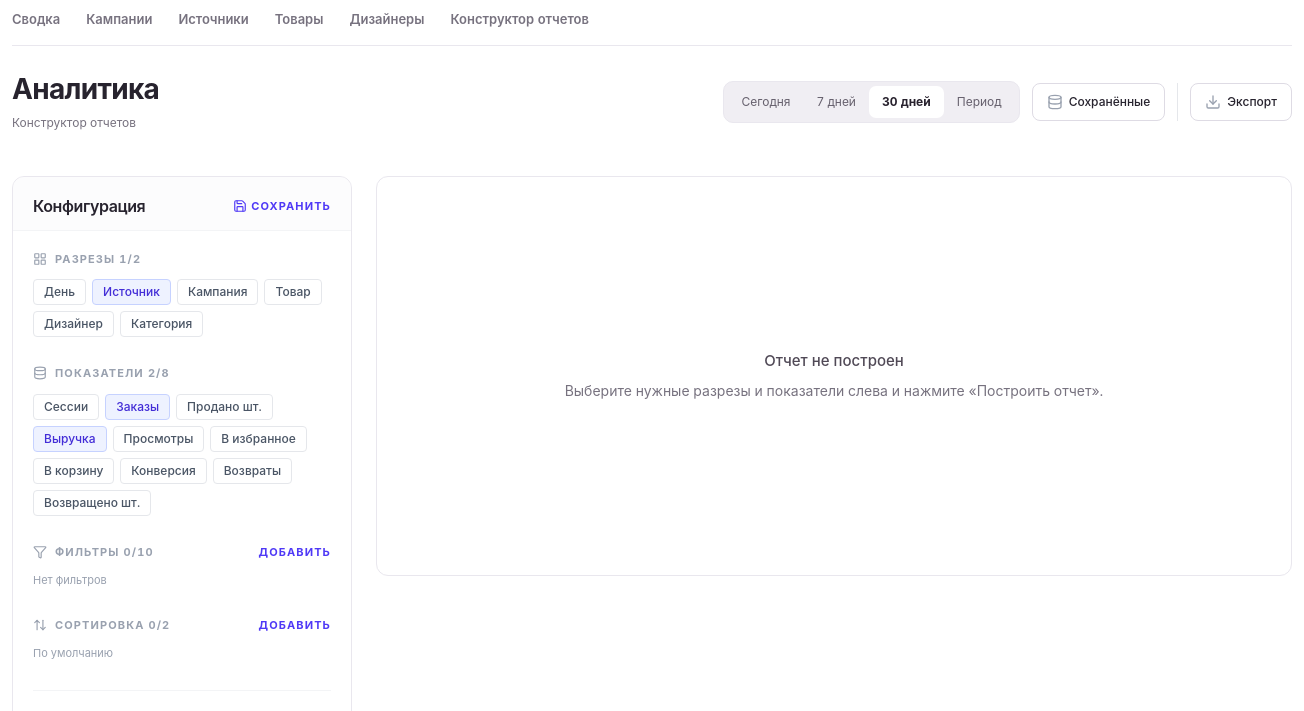
Test case: AdminMarketingQueryBuilder — Core Contract Matrix › Matrix 25-27: renders metric-only, 1-dimension, and 2-dimension responses correctly
# Deselect source to make 0 dimensions
Click the button "Источник": (132, 292) [92,279,171,305]
(page scrolled)
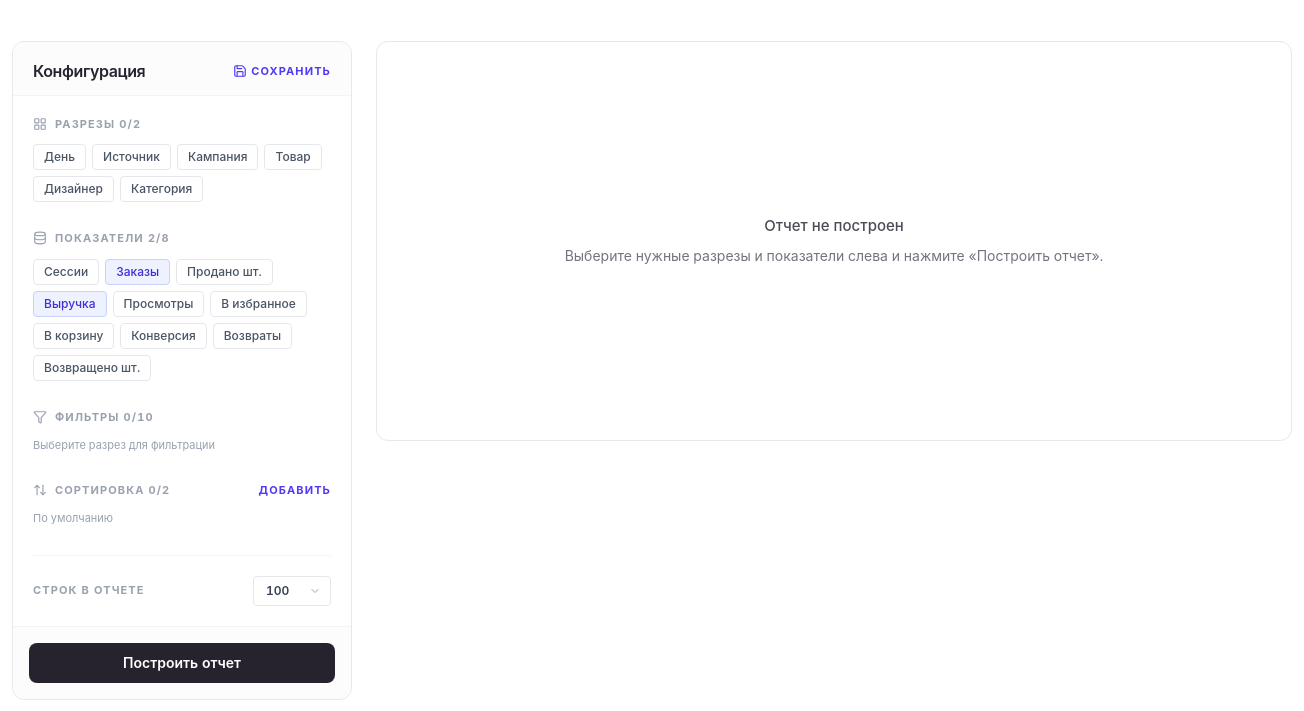
Click the button "Построить отчет": (182, 662) [29,642,335,682]
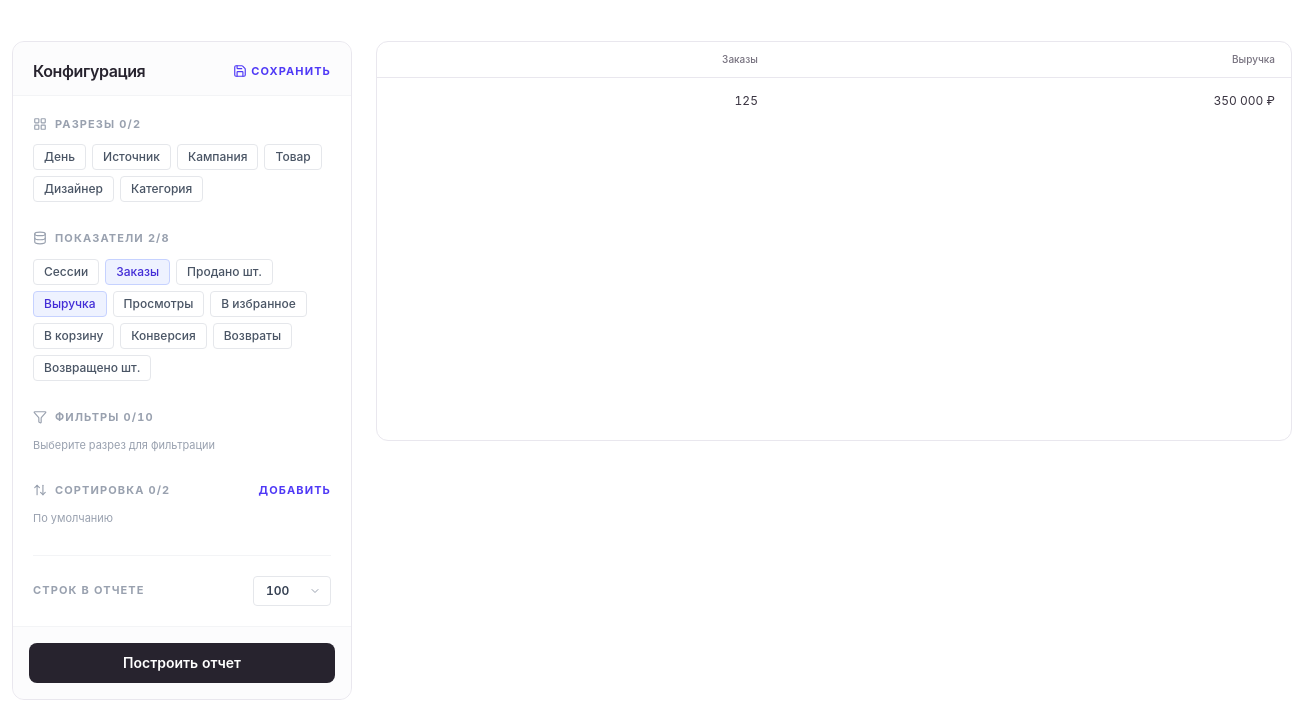
Expected: the text "125" is shown, [377,77,774,124]
Expected: the text "350 000 ₽" is shown, [774,77,1291,124]
Click the button "День": (60, 157) [33,144,86,170]
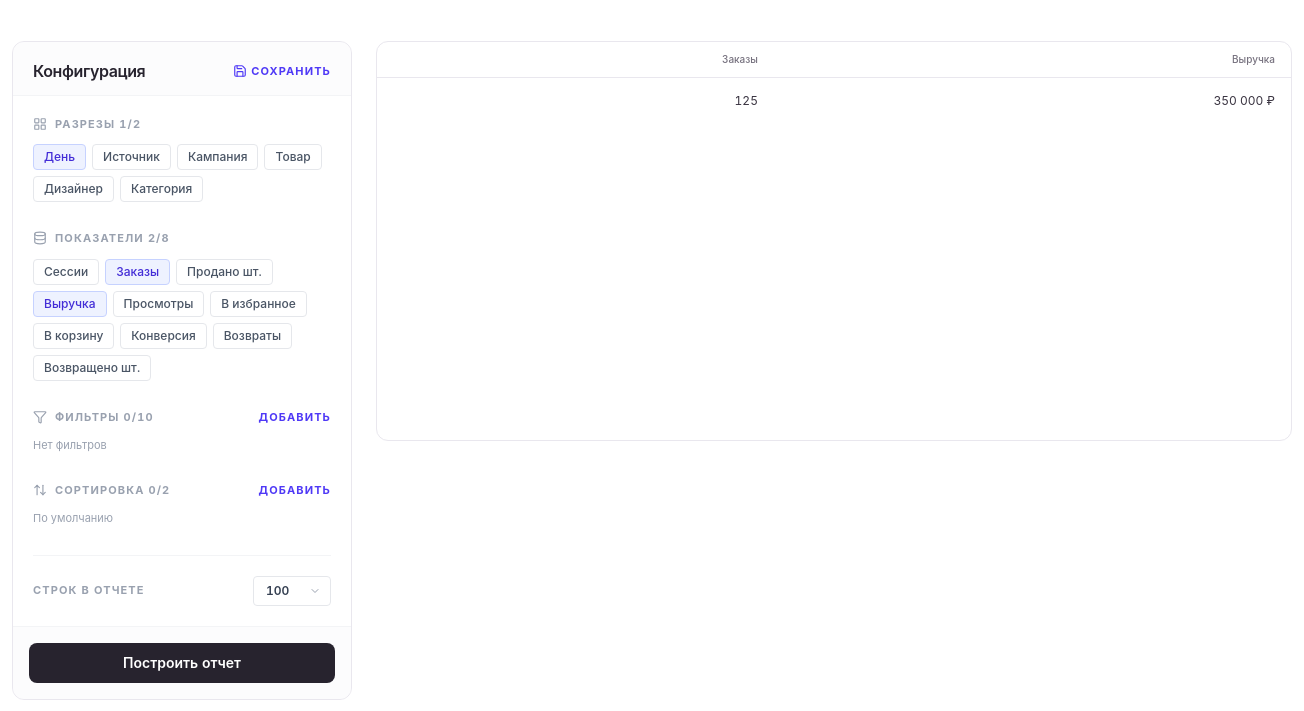
Click the button "Источник": (132, 157) [92,144,171,170]
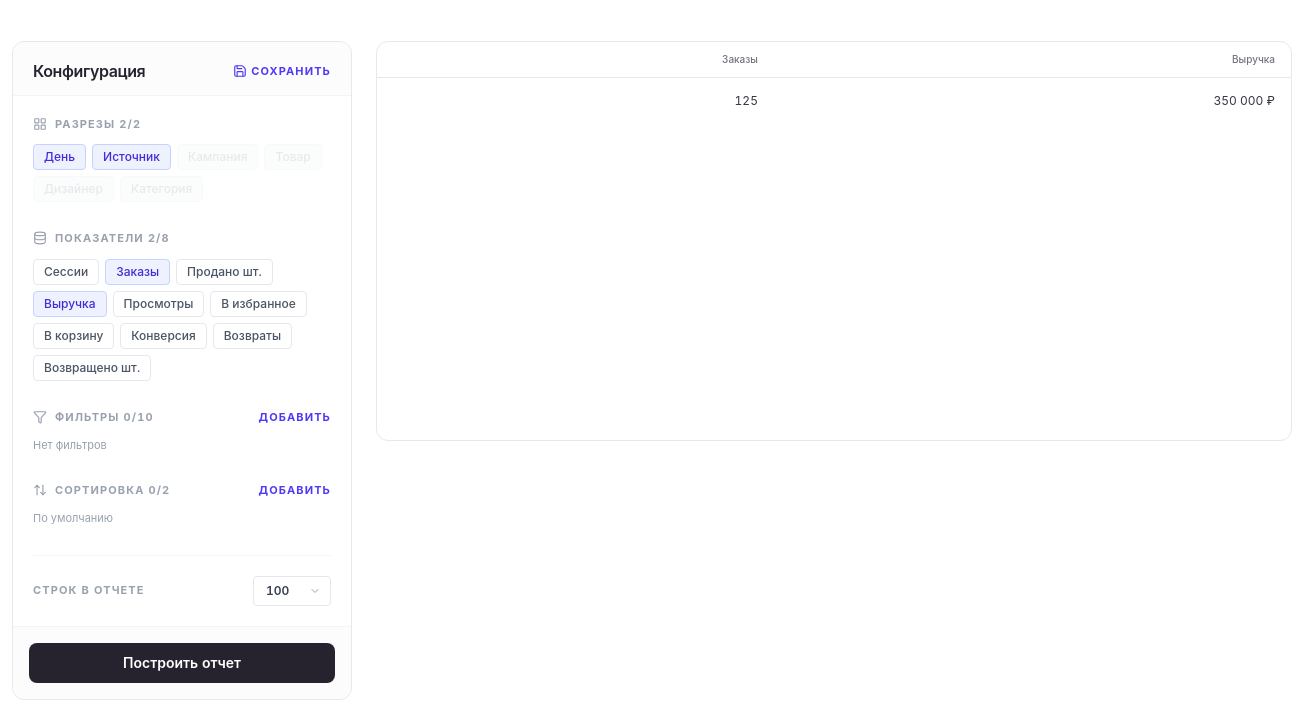
Click the button "Построить отчет": (182, 662) [29,642,335,682]
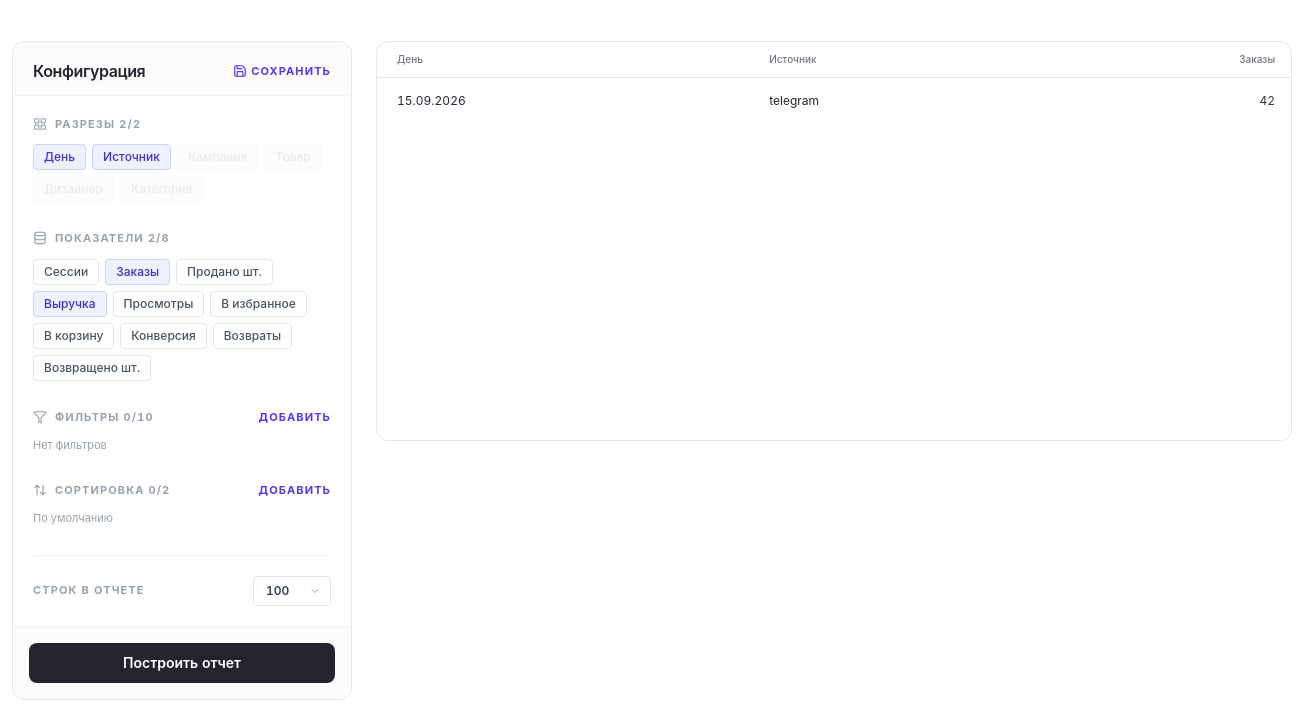
Expected: the text "telegram" is shown, [753,77,1047,124]
Expected: the text "42" is shown, [1047,77,1291,124]
